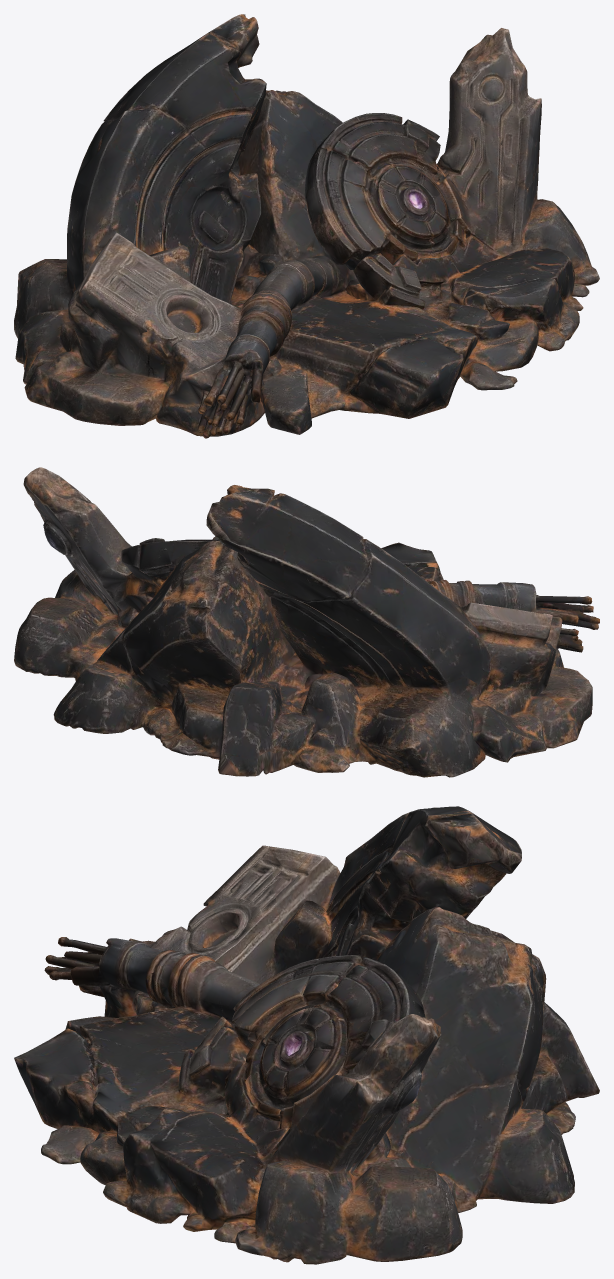
File: 16_Broken_Mechanism.glb
3 renders of one model, top to bottom at view 1: azimuth 30°, elevation 25°; view 2: azimuth 150°, elevation 25°; view 3: azimuth 270°, elevation 25°, orthographic. The views are drawn at different scales.
Bounding box in the file's own units: 1.9 × 0.8321 × 1.51.
1 material, 1 textured.
